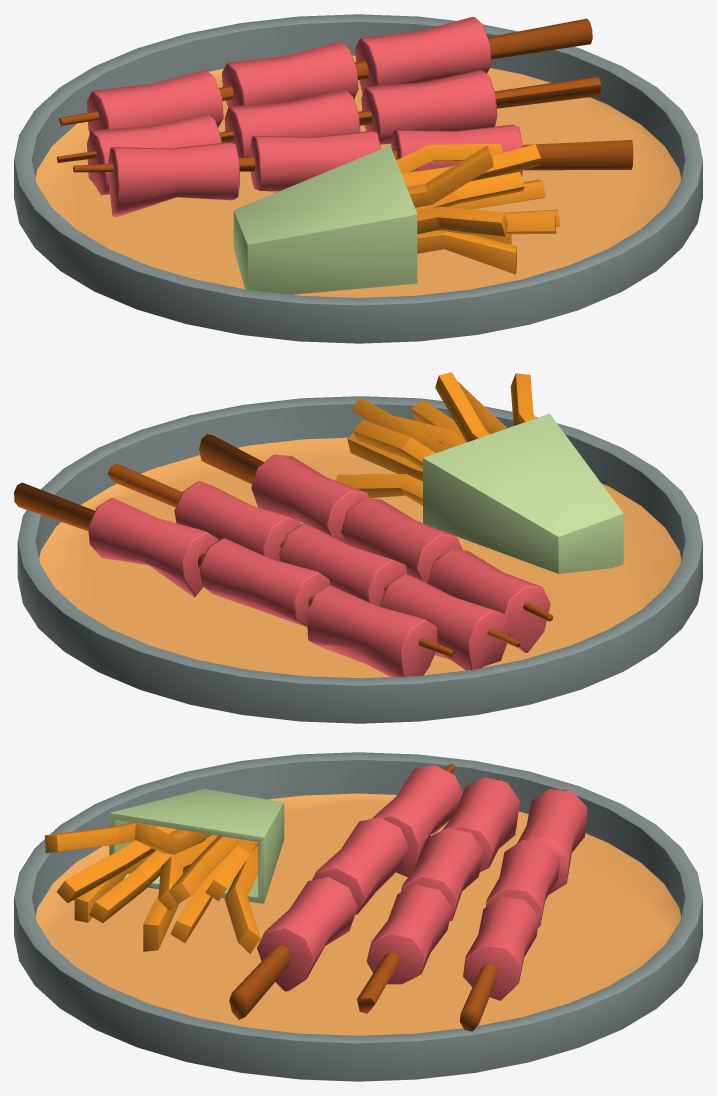
The model's file is SM_Food.fbx.
3 renders of one model, top to bottom at view 1: azimuth 30°, elevation 25°; view 2: azimuth 150°, elevation 25°; view 3: azimuth 270°, elevation 25°, orthographic.
Visible parts, largest first — view 1: SM_Food_LOD0; view 2: SM_Food_LOD0; view 3: SM_Food_LOD0.
Part boxes in pixels (<box>): SM_Food_LOD0: <box>14,14,702,343</box>; SM_Food_LOD0: <box>14,372,702,723</box>; SM_Food_LOD0: <box>14,752,702,1081</box>.
Bounding box in the file's own units: 40.29 × 40.29 × 8.04.
1 material, 1 textured.
